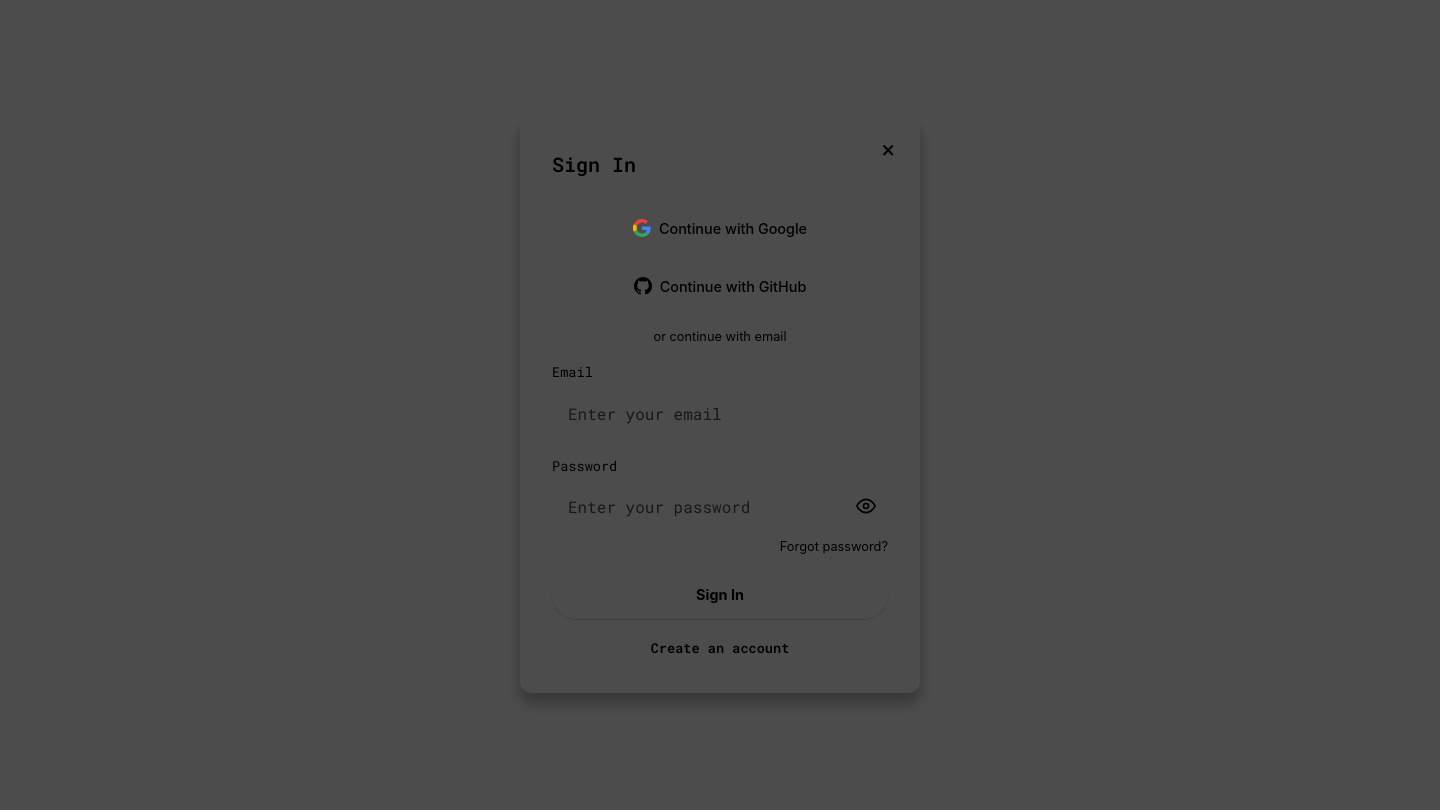
Test case: AuthModal › shows error when passwords do not match
Click the button "Create an account" at {"x": 720, "y": 648}, box [647,635,793,661]
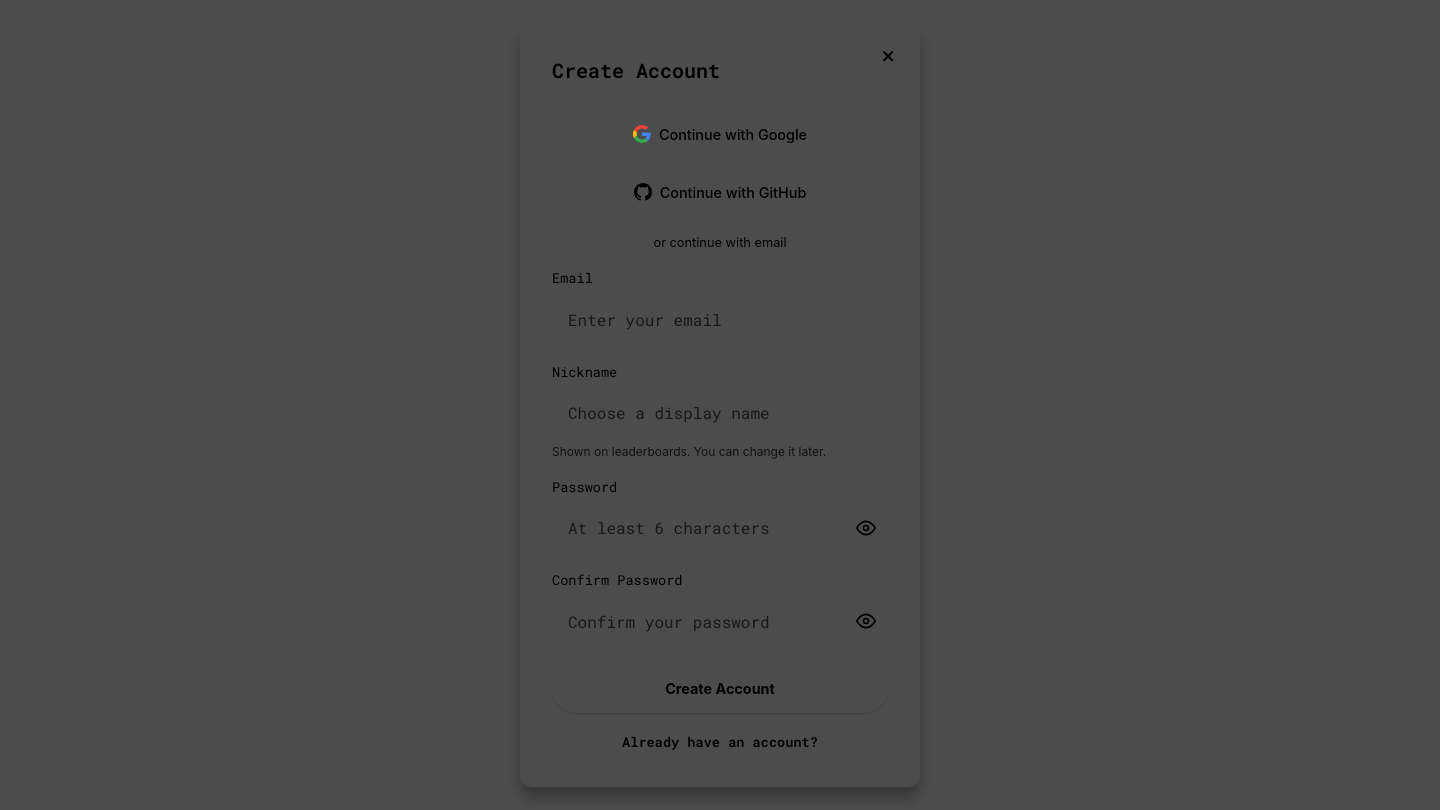
Type "test@example.com" into the field labelled "Email" at {"x": 720, "y": 319}, box [552,293,888,346]
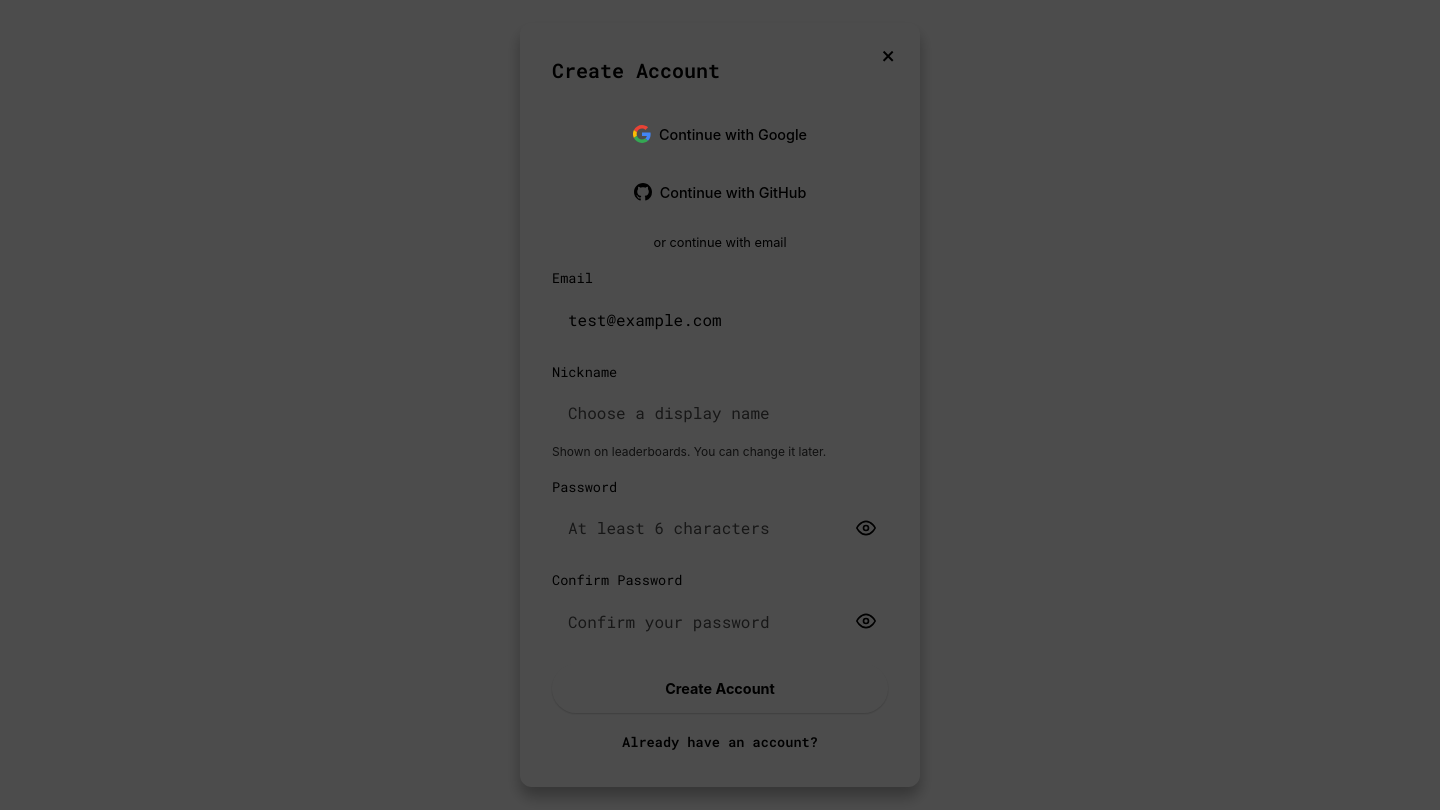
Type "password123" into the password field labelled "Password" at {"x": 720, "y": 528}, box [552,502,888,554]
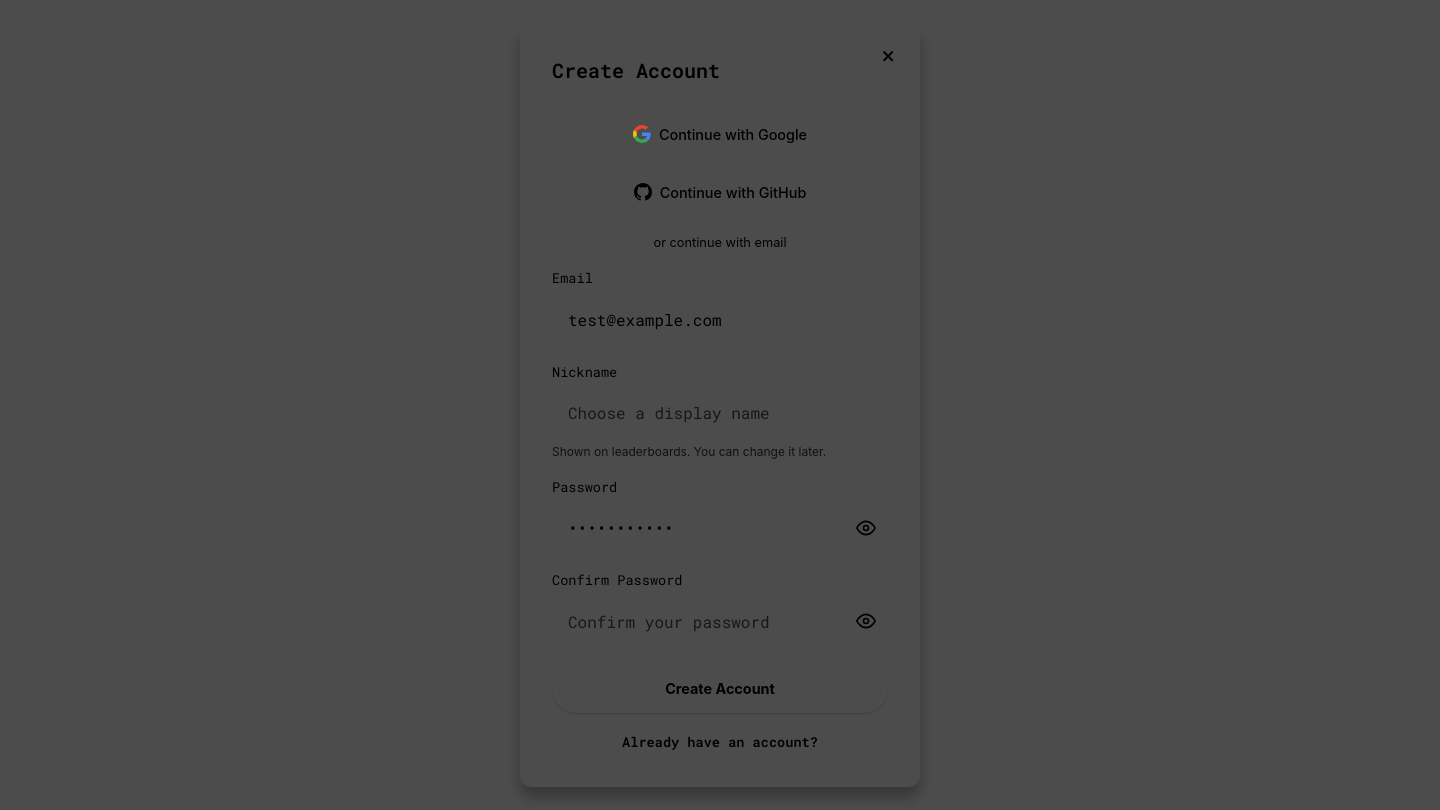
Type "different" into the password field labelled "Confirm Password" at {"x": 720, "y": 621}, box [552,595,888,648]
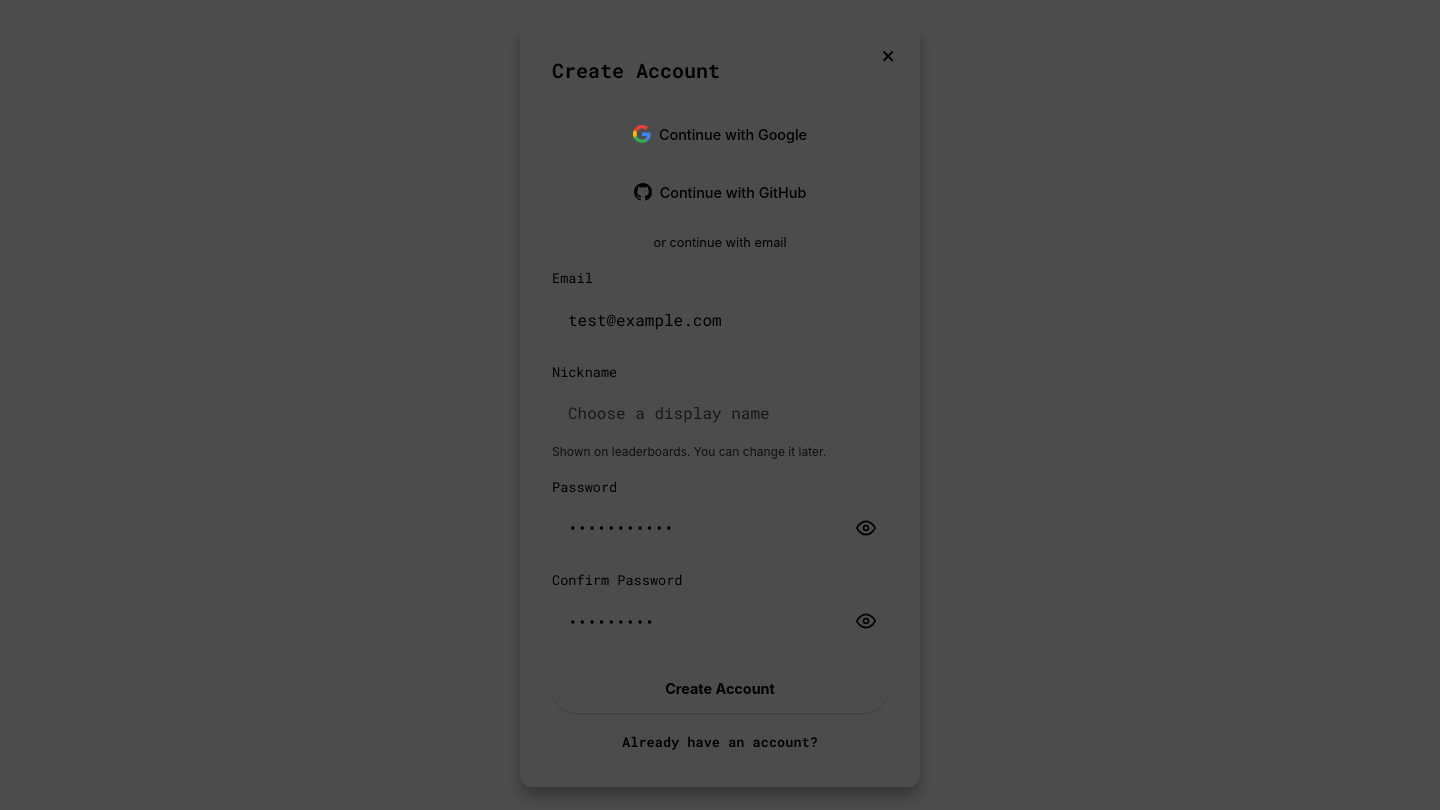
Click the button "Create Account" at {"x": 720, "y": 688}, box [552,664,888,713]
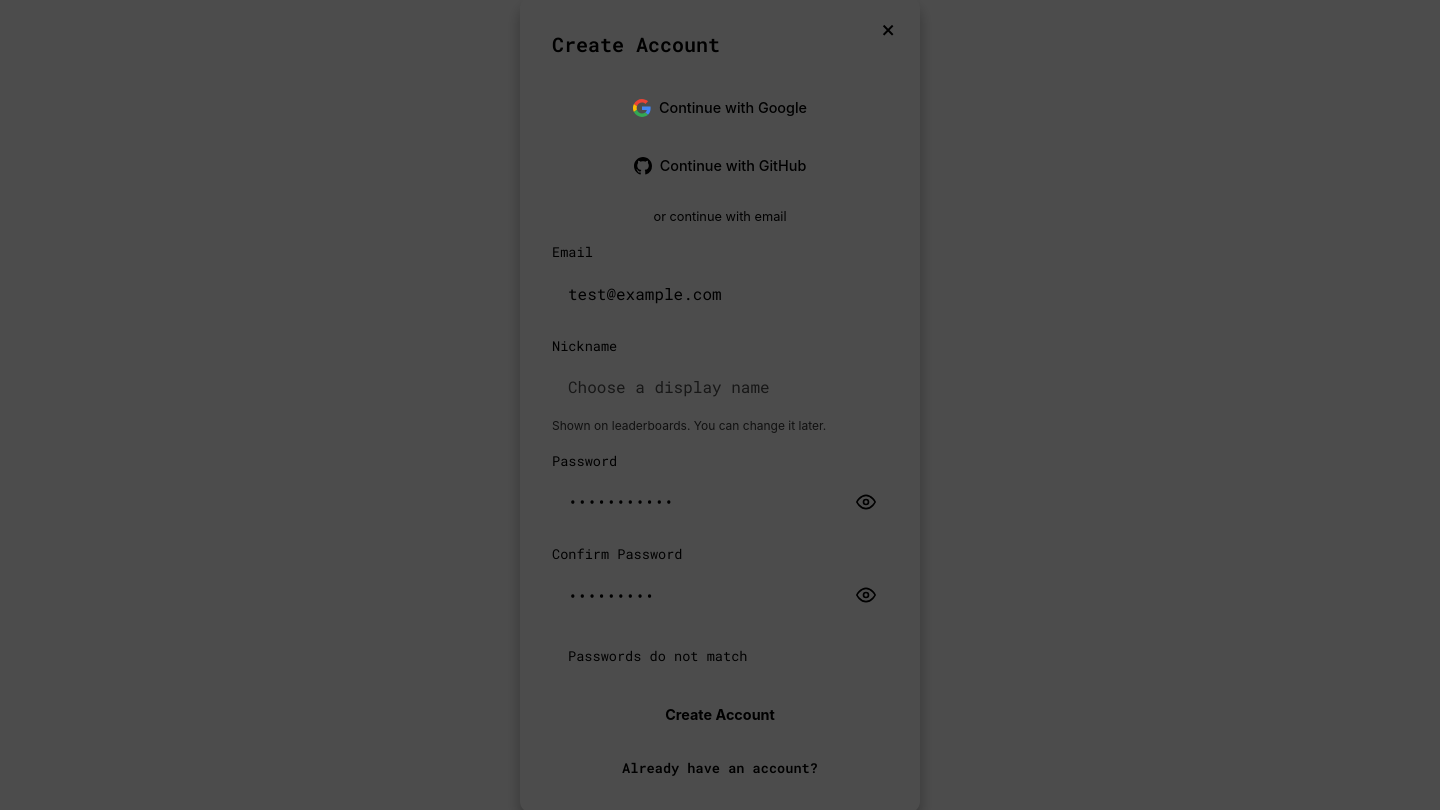
Expected: the text "Passwords do not match" is shown, [568,647,748,665]
